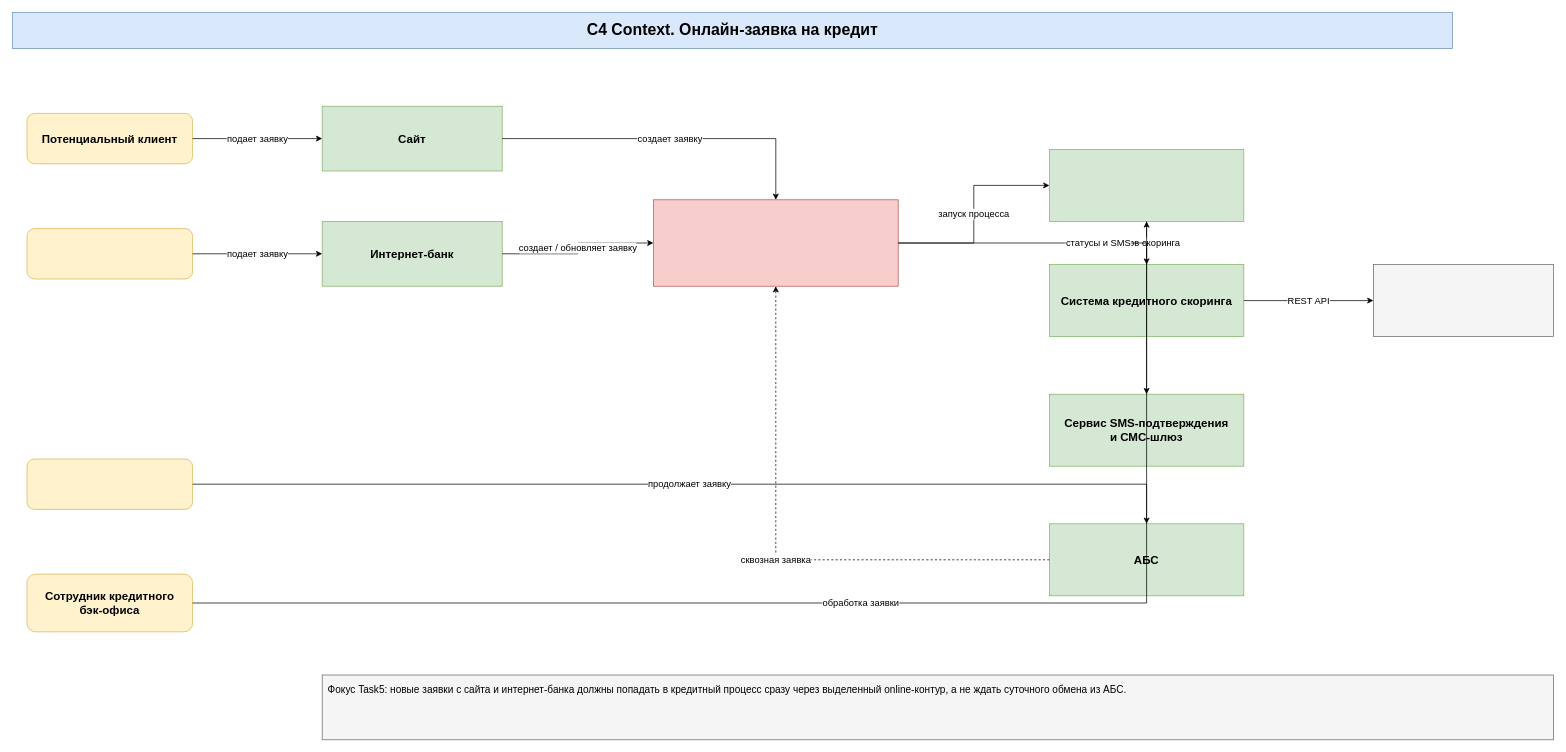
Some shapes in this 1566 by 752 pixel diagram are drawn without their labels. The shapes that lost their labels are listed below. From the top down, each one's box as (x1, y1, x2, y2) in pixels, then its label:
(1049, 149, 1244, 221): Кредитный конвейер
(26, 228, 193, 279): Клиент интернет-банка
(653, 199, 898, 286): API онлайн-кредитования Новый интеграционный контур
(1373, 264, 1553, 337): Бюро кредитных историй
(26, 458, 193, 509): Сотрудник отделения
